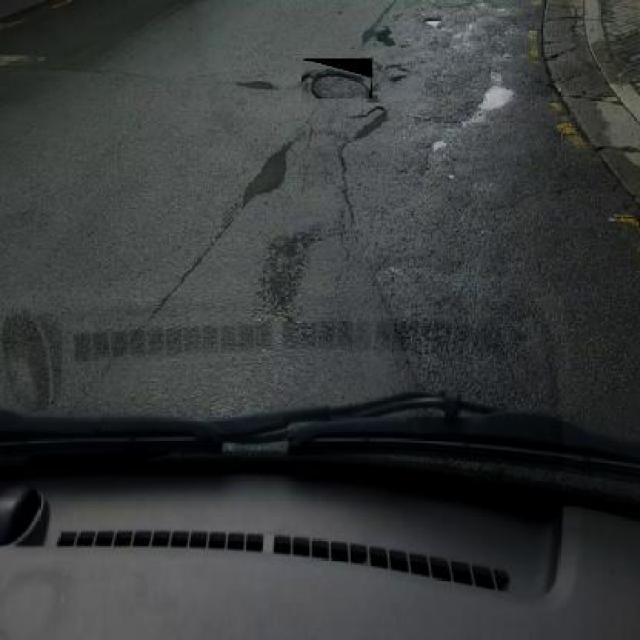Manhole: (302, 59, 373, 99)
Pothole: (466, 66, 530, 134), (416, 126, 484, 168), (413, 11, 456, 40)
